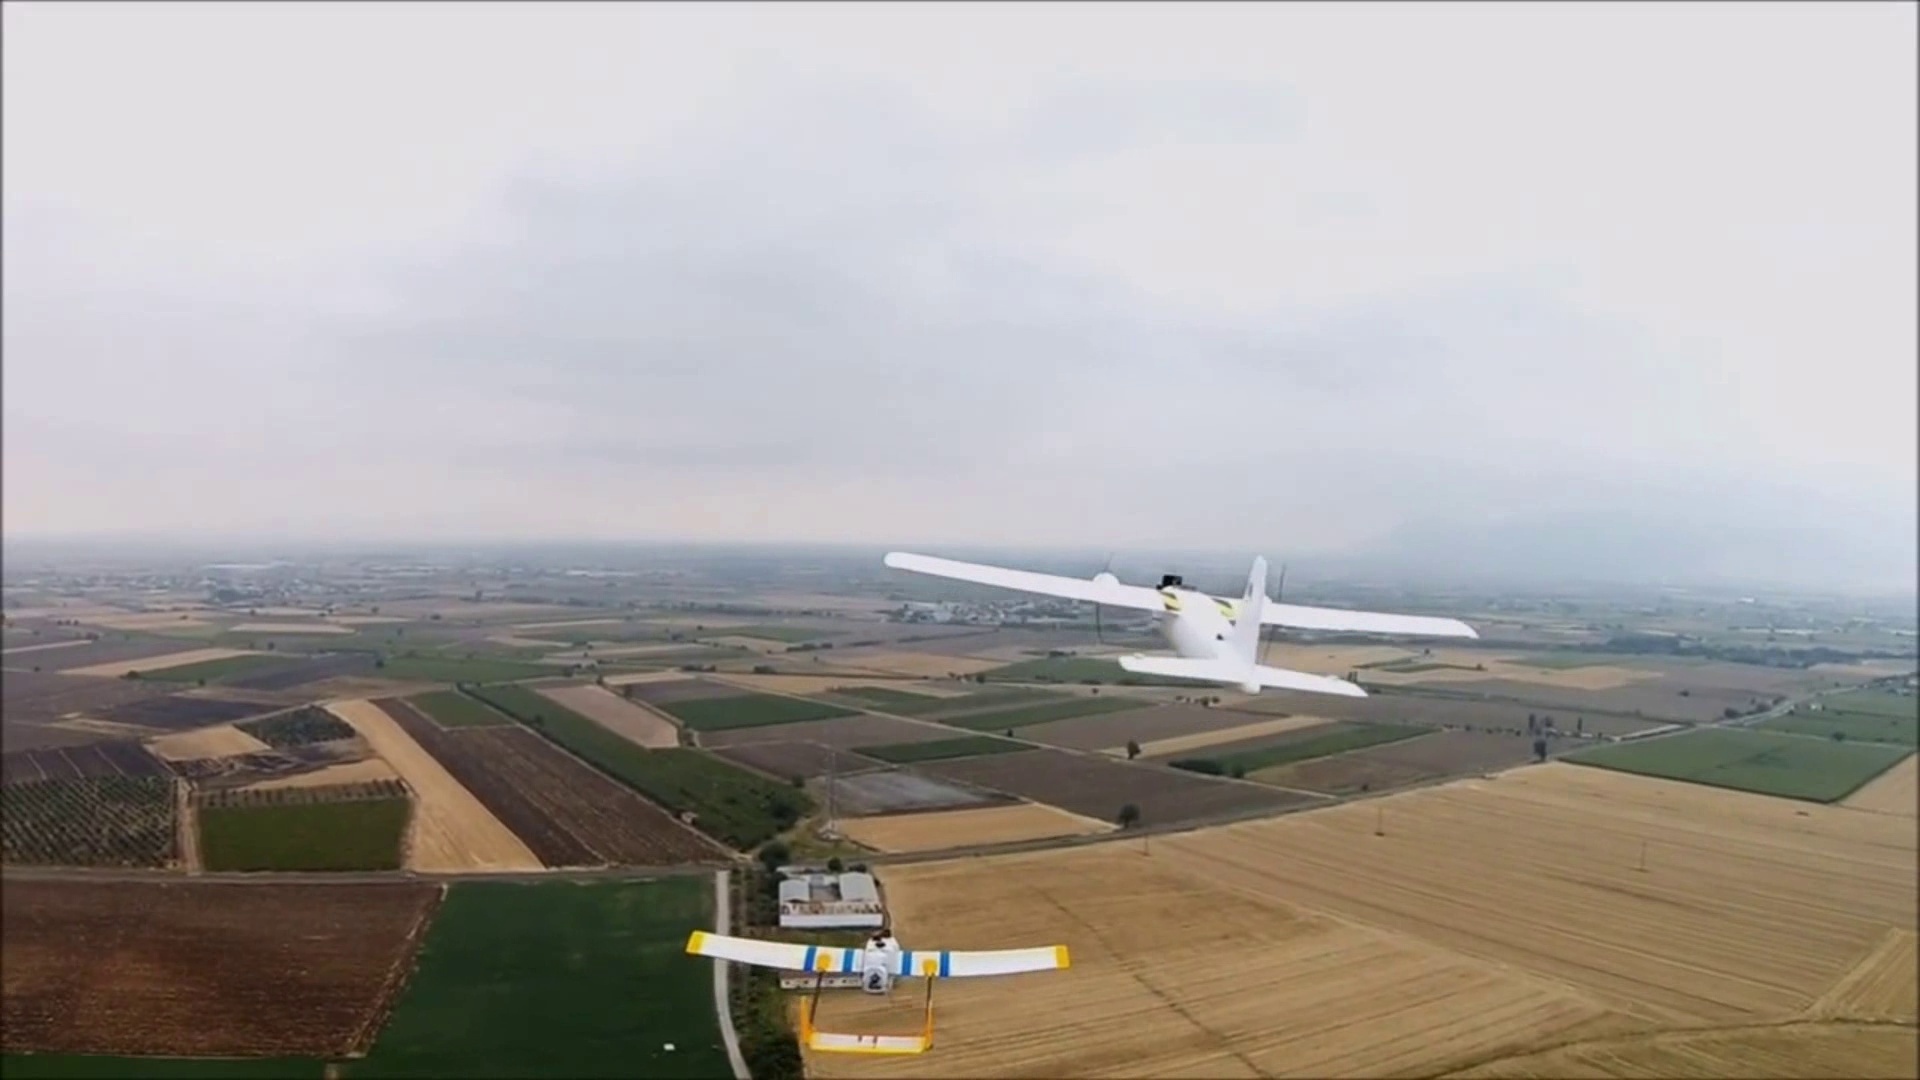airplane: (882, 544, 1492, 708)
